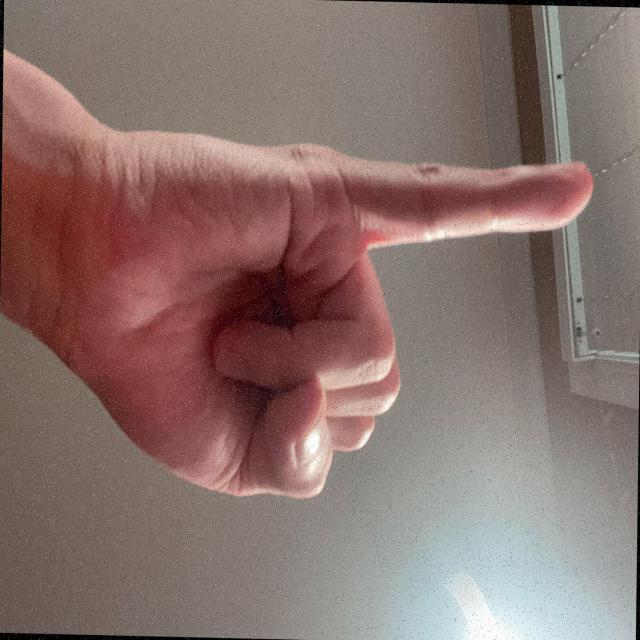I: (218, 49, 554, 640)
